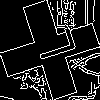L: (25, 25, 77, 66)
